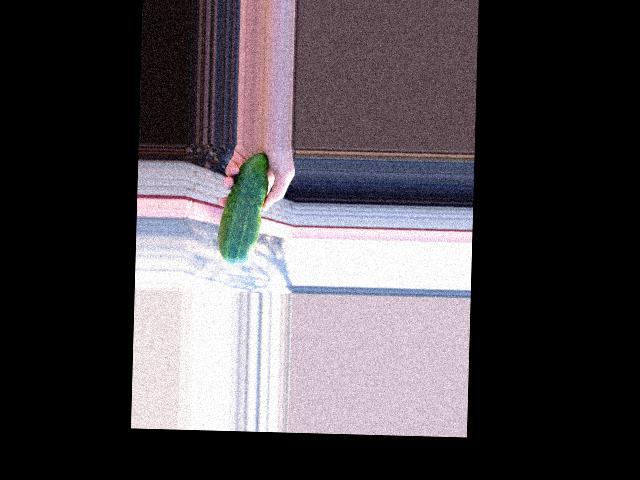cucumber: (216, 152, 268, 264)
